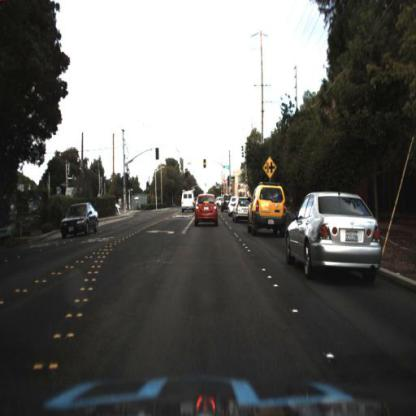car: (283, 184, 384, 284), (59, 194, 103, 244), (251, 183, 292, 236), (191, 189, 225, 238), (233, 194, 250, 225), (179, 187, 196, 217), (220, 192, 232, 214)
trafficLight: (203, 155, 209, 176), (184, 165, 190, 181)
